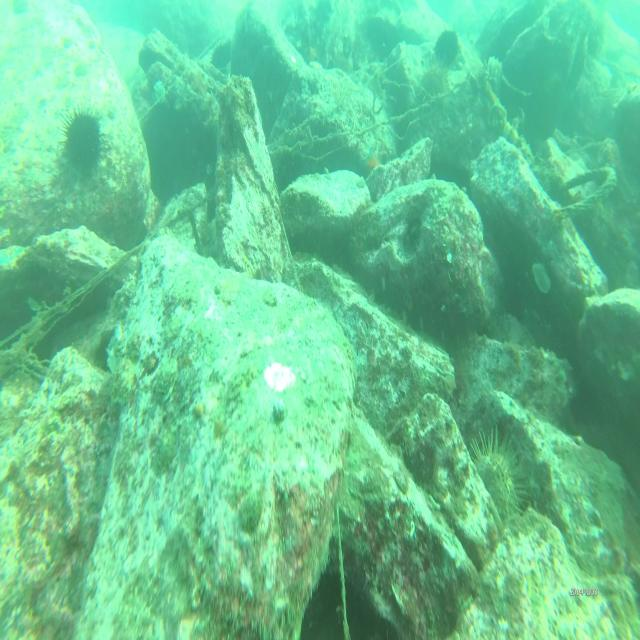echinus: (470, 430, 524, 526), (61, 108, 104, 176), (436, 28, 462, 68), (211, 41, 233, 70)
starfish: (360, 147, 384, 185)
